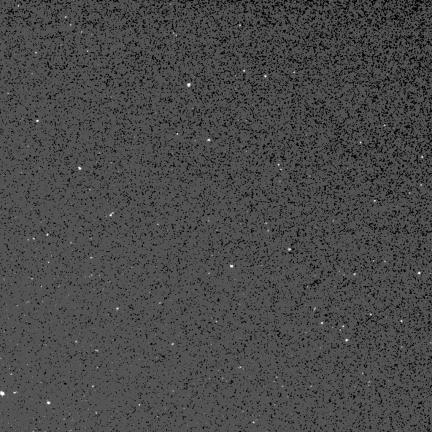blob: (187, 83, 192, 88), (0, 391, 5, 396), (79, 167, 82, 171), (230, 265, 233, 267)
